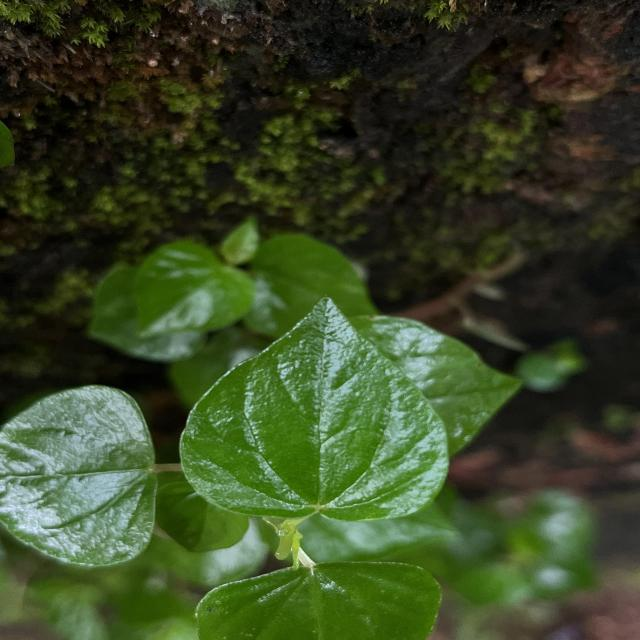Peperomia pellucida: (176, 292, 452, 526)
